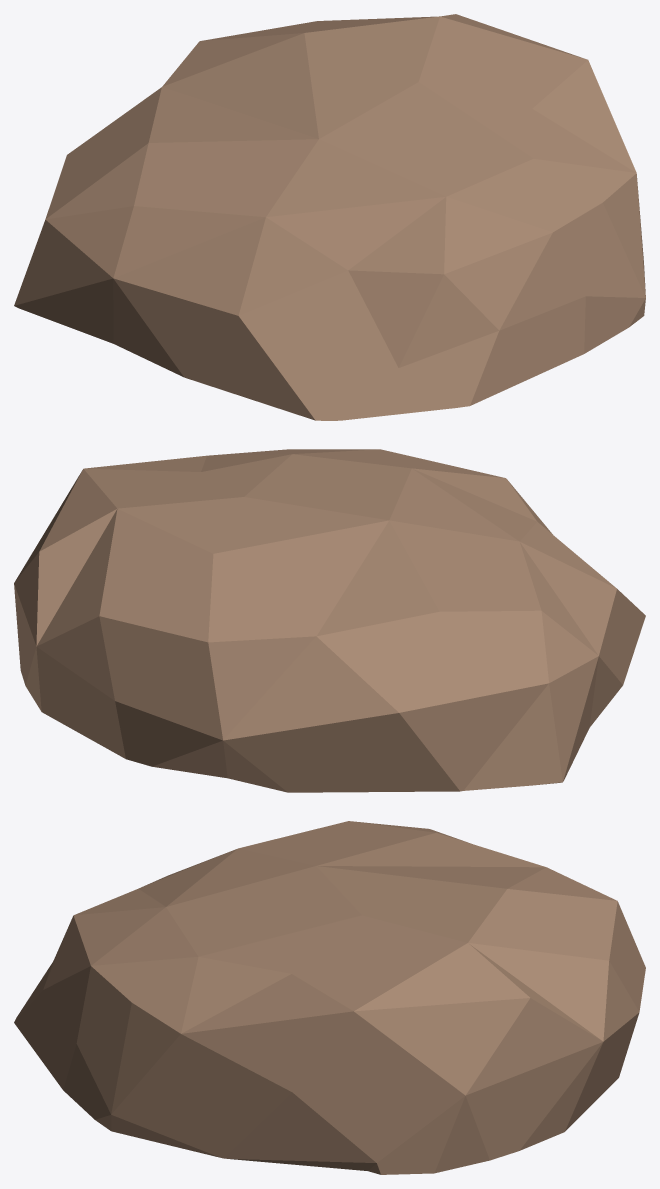
Rendered from Medium_Rocks_002.fbx.
3 renders of one model, top to bottom at view 1: azimuth 30°, elevation 25°; view 2: azimuth 150°, elevation 25°; view 3: azimuth 270°, elevation 25°, orthographic.
Parts seen in each view (by area): view 1: Medium Rocks.002; view 2: Medium Rocks.002; view 3: Medium Rocks.002.
Part boxes in pixels (x1,y1,x2,y2): Medium Rocks.002: (14, 14, 645, 420); Medium Rocks.002: (14, 449, 645, 792); Medium Rocks.002: (14, 821, 645, 1174).
Size of the model in its own units: 28.49 by 8.69 by 28.2.
